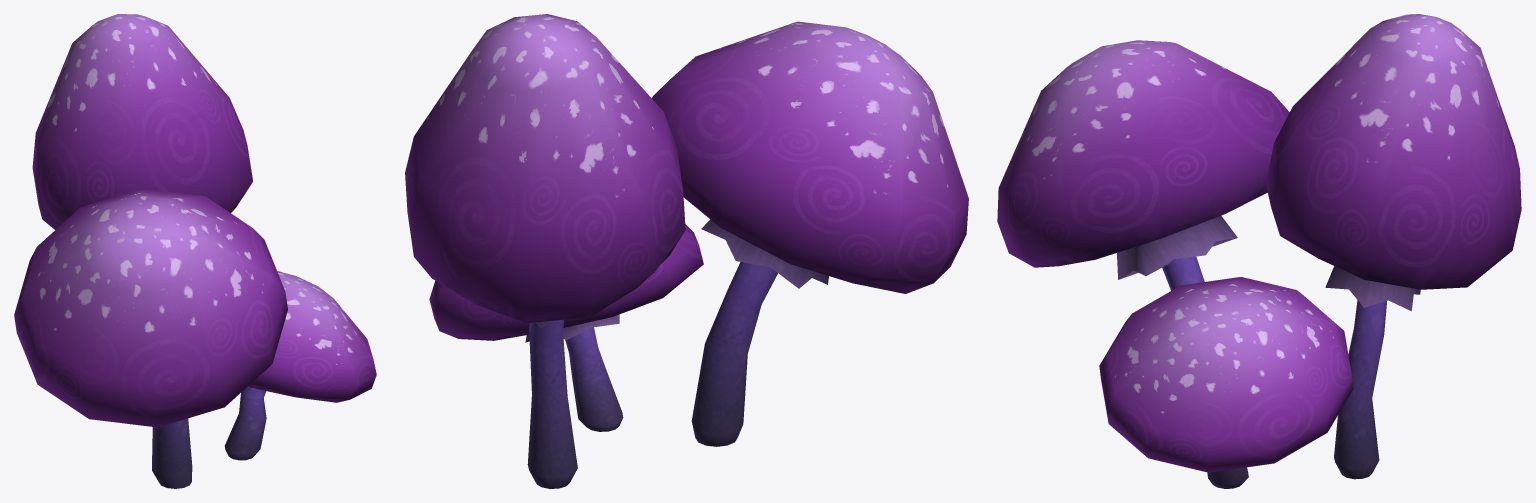
3 views of the same model, side by side, from view 1: azimuth 30°, elevation 25°; view 2: azimuth 150°, elevation 25°; view 3: azimuth 270°, elevation 25° (orthographic). The views are drawn at different scales.
Parts seen in each view (by area): view 1: SM_MagicMushroomCluster_lambert2_0; view 2: SM_MagicMushroomCluster_lambert2_0; view 3: SM_MagicMushroomCluster_lambert2_0.
Boxes of the visible parts, bbox=[...] form: SM_MagicMushroomCluster_lambert2_0: bbox=[14, 14, 376, 488]; SM_MagicMushroomCluster_lambert2_0: bbox=[405, 14, 968, 488]; SM_MagicMushroomCluster_lambert2_0: bbox=[997, 14, 1521, 488].
Size of the model in its own units: 0.4881 by 0.4989 by 0.5324.
1 material, 1 textured.
